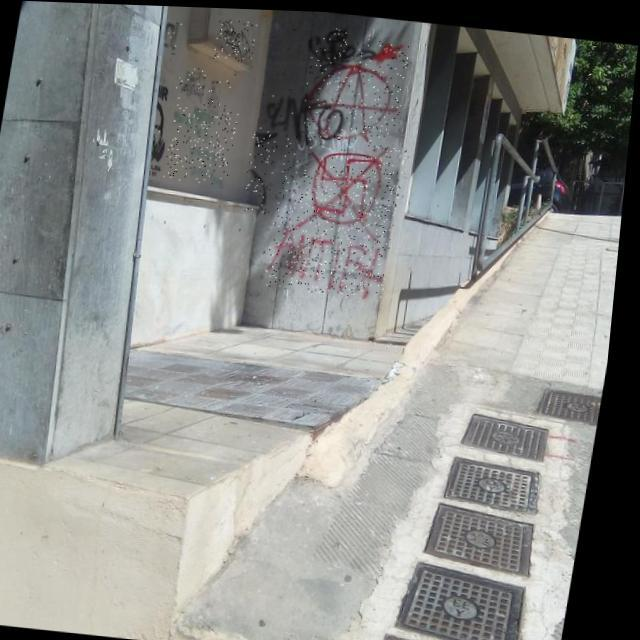-: (268, 132, 410, 296), (300, 29, 412, 141), (166, 104, 240, 183), (262, 84, 352, 146), (290, 120, 379, 172), (302, 22, 379, 78), (141, 78, 179, 175), (244, 124, 282, 212), (174, 63, 238, 115), (214, 16, 258, 61), (158, 19, 184, 56)
